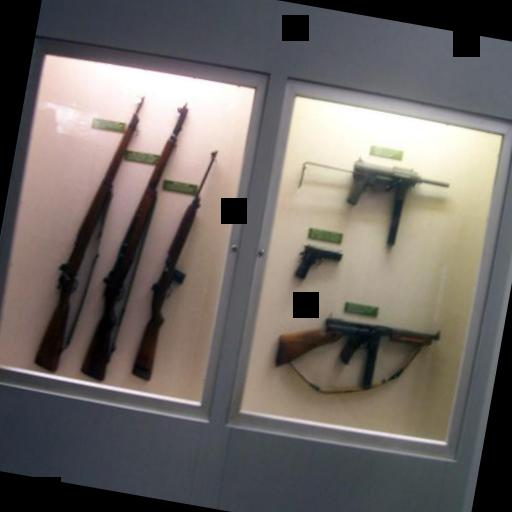Handgun: (286, 237, 346, 289)
